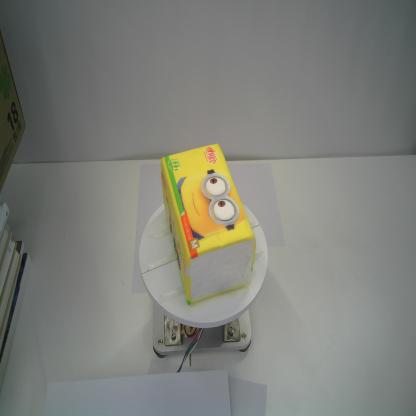Tissue: (159, 142, 258, 308)
